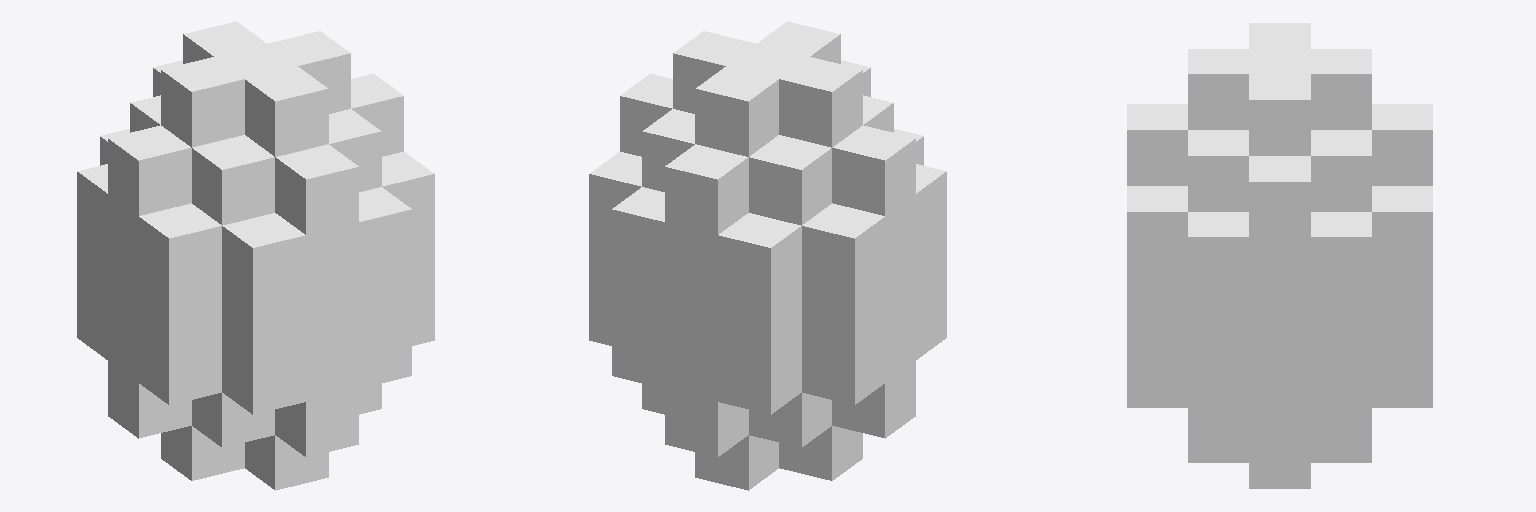
File: bird-4-eye.obj
The picture shows the model from 3 angles: view 1: azimuth 30°, elevation 25°; view 2: azimuth 150°, elevation 25°; view 3: azimuth 270°, elevation 25°; orthographic projection.
Visible parts, largest first — view 1: eye; view 2: eye; view 3: eye.
Part boxes in pixels (x1,y1,x2,y2): eye: (77, 21, 434, 490); eye: (589, 21, 946, 490); eye: (1127, 23, 1432, 488).
Size of the model in its own units: 0.5 by 0.7 by 0.5.